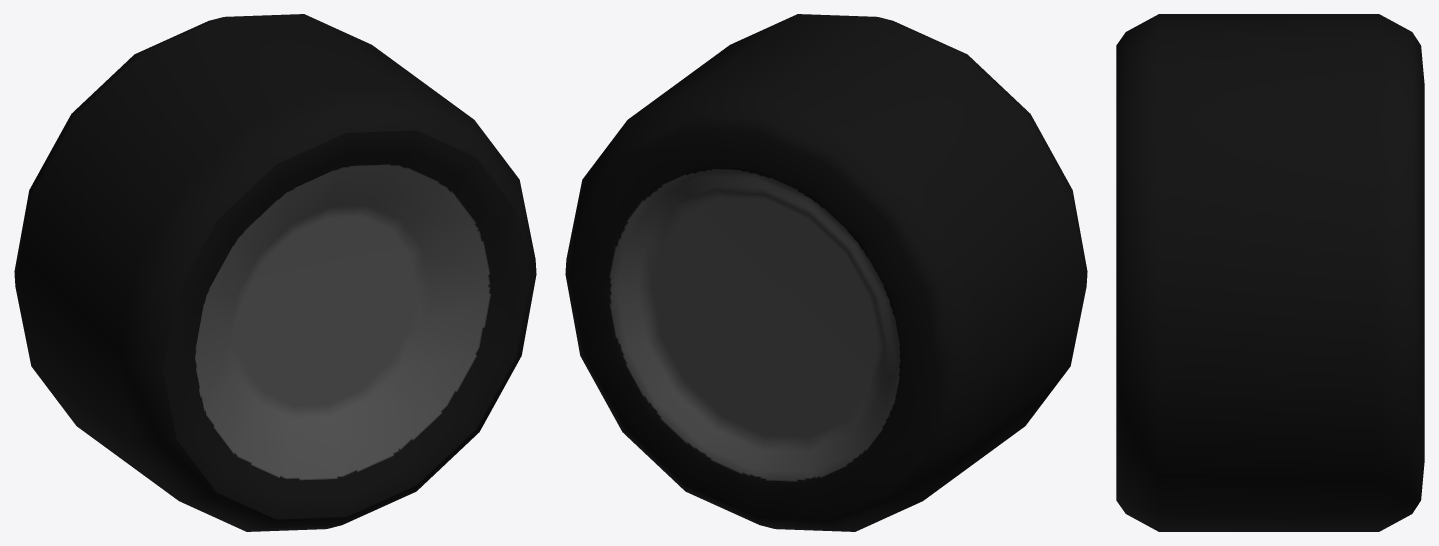
The model's file is SM_ProwlerWheel.fbx.
3 views of the same model, side by side, from view 1: azimuth 30°, elevation 25°; view 2: azimuth 150°, elevation 25°; view 3: azimuth 270°, elevation 25° (orthographic). The views are drawn at different scales.
Visible parts, largest first — view 1: LowPolyWheelCenter; view 2: LowPolyWheelCenter; view 3: LowPolyWheelCenter.
Part boxes in pixels (x1,y1,x2,y2): LowPolyWheelCenter: (14, 14, 536, 531); LowPolyWheelCenter: (565, 14, 1087, 531); LowPolyWheelCenter: (1116, 14, 1424, 531).
Bounding box in the file's own units: 98.59 × 58.61 × 98.59.
Materials: 1 (1 with a texture image).
